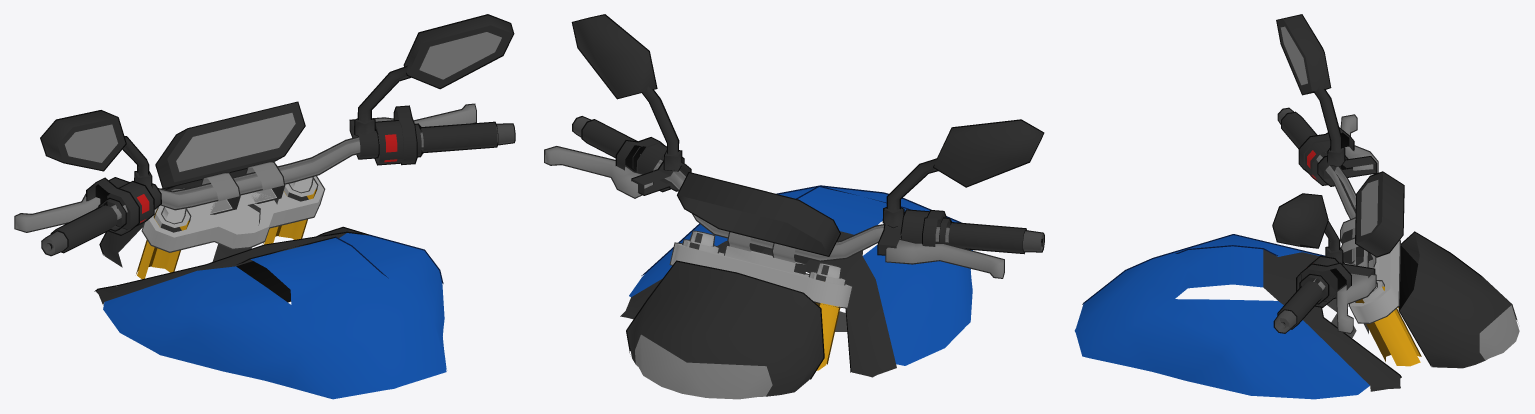
File: HandlesBike.gltf
3 renders of one model, left to right at view 1: azimuth 30°, elevation 25°; view 2: azimuth 150°, elevation 25°; view 3: azimuth 270°, elevation 25°, orthographic. The views are drawn at different scales.
Parts seen in each view (by area): view 1: Body_Bike_Mat_Lighter_0.001; view 2: Body_Bike_Mat_Lighter_0.001; view 3: Body_Bike_Mat_Lighter_0.001.
Boxes of the visible parts, x1,y1,x2,y2 form: Body_Bike_Mat_Lighter_0.001: (14,14,515,399); Body_Bike_Mat_Lighter_0.001: (544,14,1044,399); Body_Bike_Mat_Lighter_0.001: (1074,14,1519,399).
Bounding box in the file's own units: 0.8332 × 0.3986 × 0.7359.
Materials: 3 (2 with a texture image).
